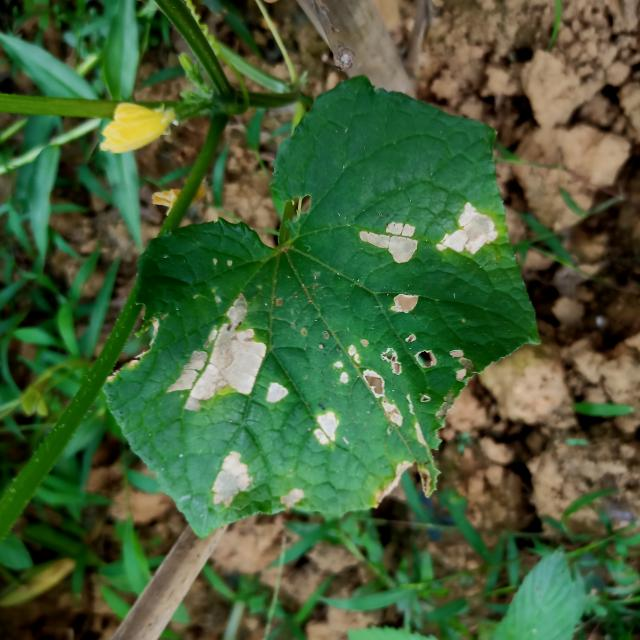disease_cucumber: (166, 287, 340, 512), (344, 194, 500, 320), (343, 321, 464, 443)
